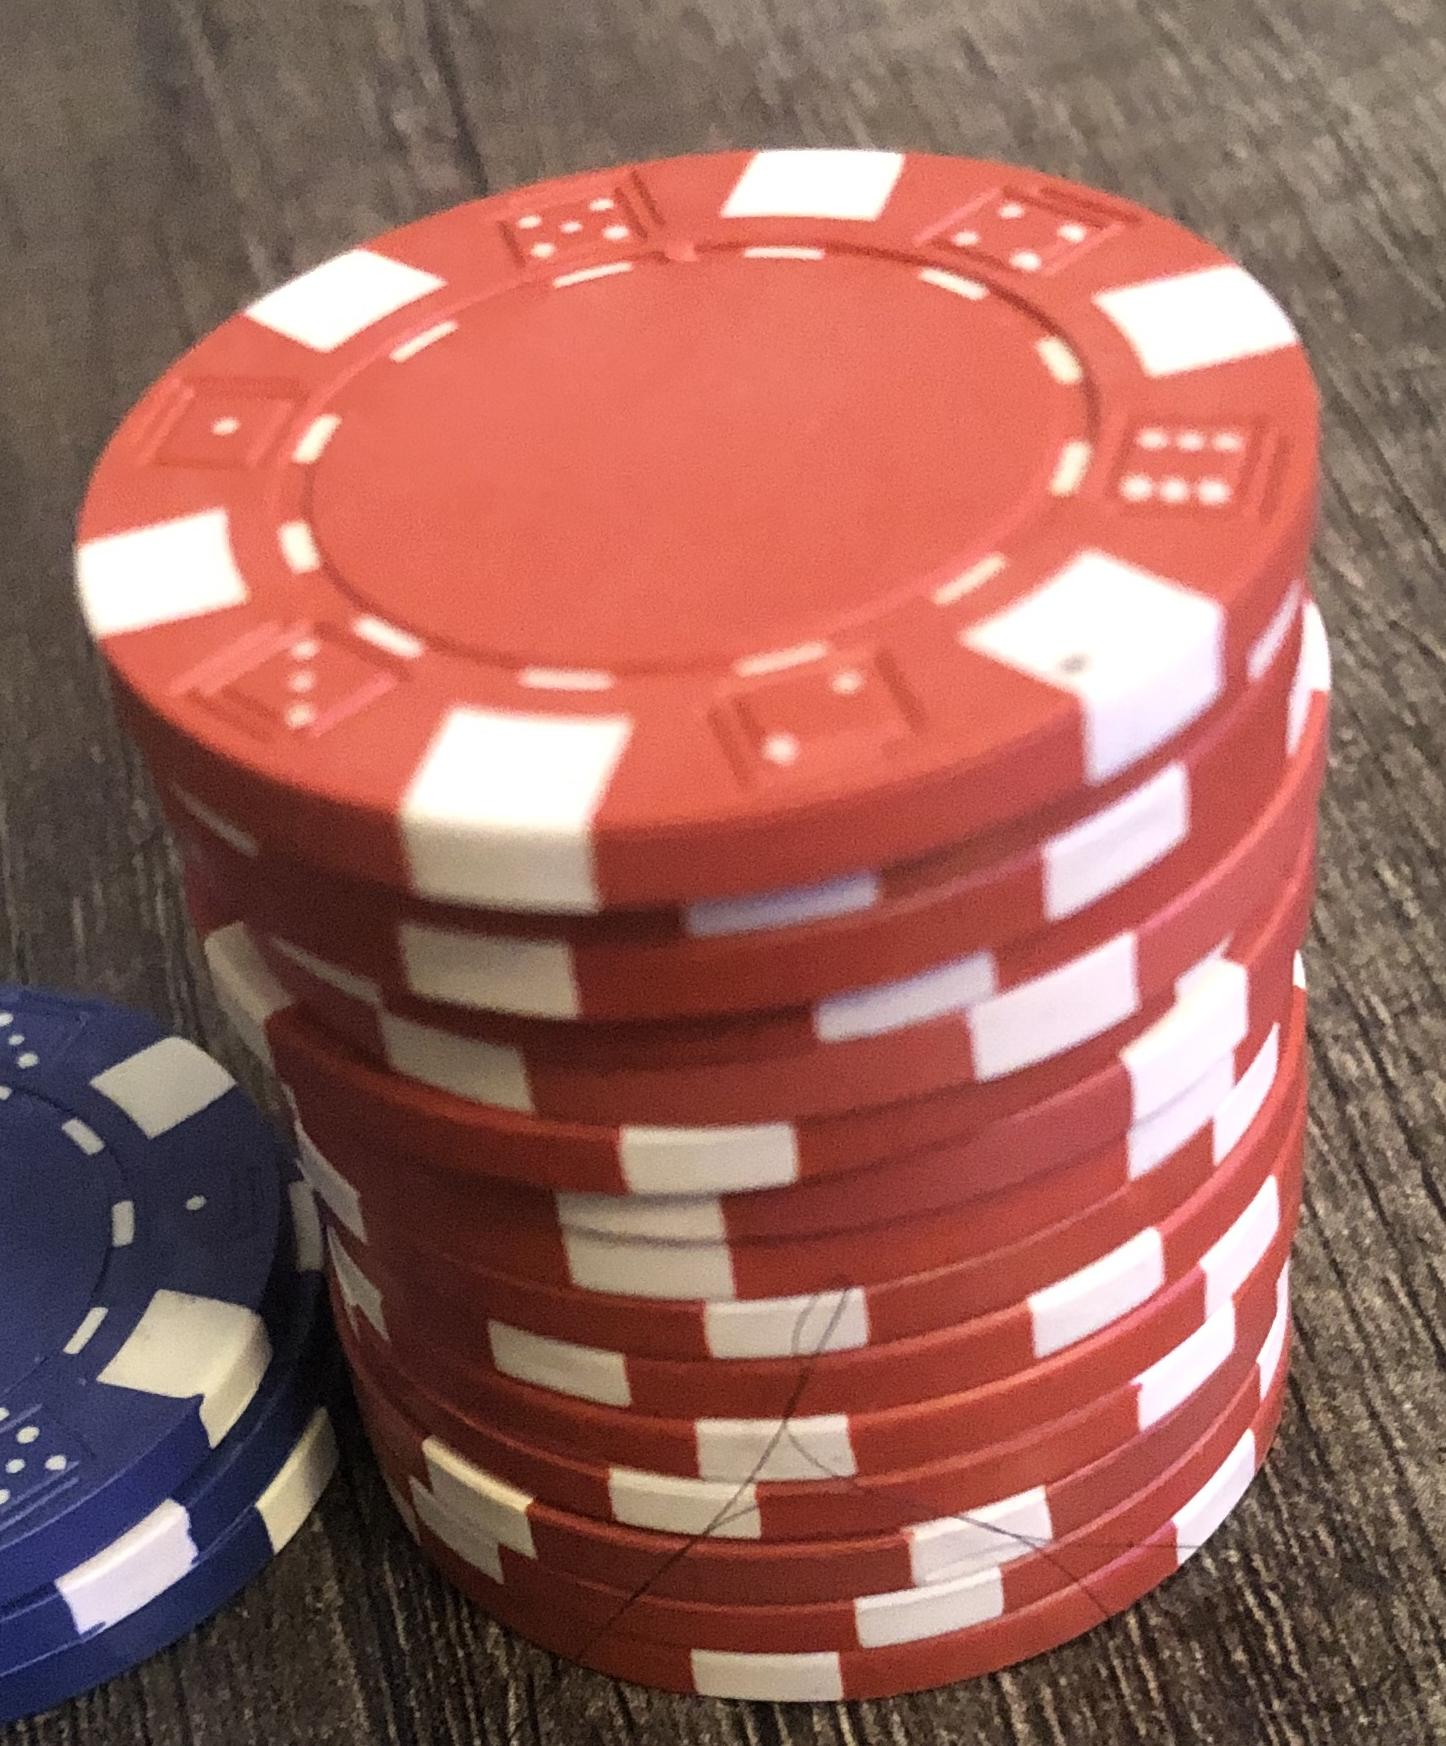Chip: (1, 1, 1446, 1746)
